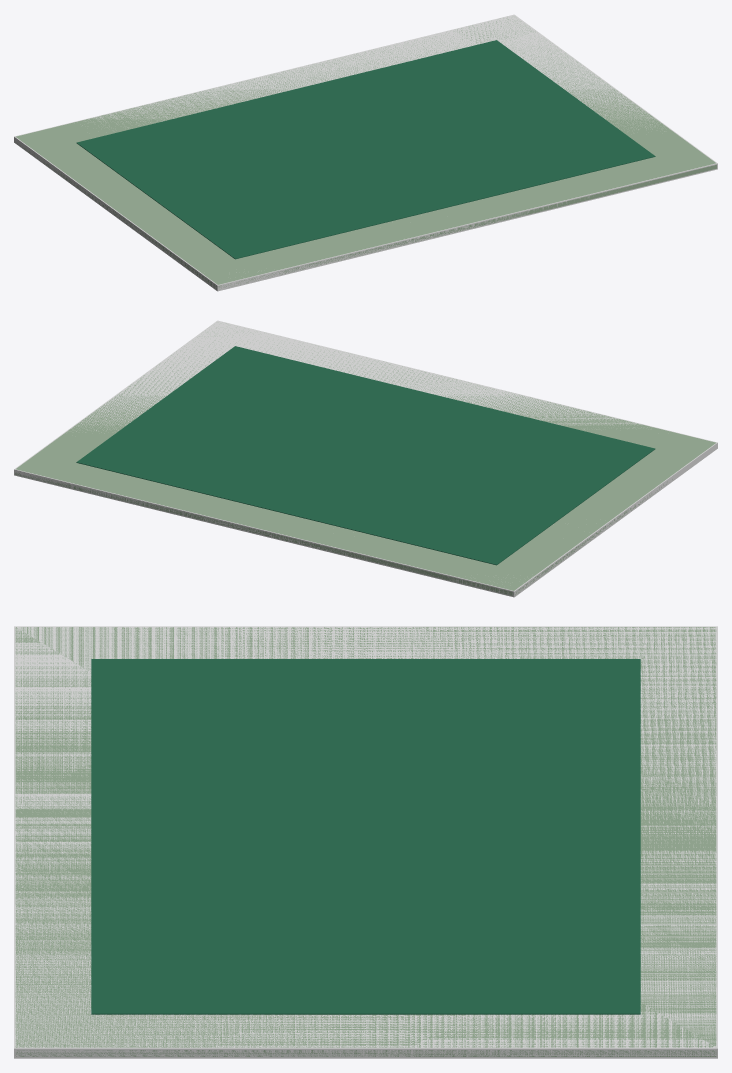
Rendered from area-rug_retail.glb.
3 views of the same model, one above another, from view 1: azimuth 30°, elevation 25°; view 2: azimuth 150°, elevation 25°; view 3: azimuth 270°, elevation 25° (orthographic). The views are drawn at different scales.
Visible parts, largest first — view 1: MESH_RugInset, MESH_Rug, COL_area-rug; view 2: MESH_RugInset, MESH_Rug, COL_area-rug; view 3: MESH_RugInset, COL_area-rug, MESH_Rug.
Boxes of the visible parts, x1=… form: MESH_RugInset: x1=76, y1=40, x2=655, y2=259; MESH_Rug: x1=16, y1=17, x2=716, y2=289; COL_area-rug: x1=14, y1=14, x2=717, y2=291; MESH_RugInset: x1=76, y1=346, x2=655, y2=565; MESH_Rug: x1=15, y1=323, x2=715, y2=595; COL_area-rug: x1=14, y1=320, x2=717, y2=597; MESH_RugInset: x1=91, y1=659, x2=640, y2=1014; COL_area-rug: x1=14, y1=626, x2=717, y2=1058; MESH_Rug: x1=15, y1=627, x2=716, y2=1056.
Bounding box in the file's own units: 2.2 × 0.0275 × 1.55.
